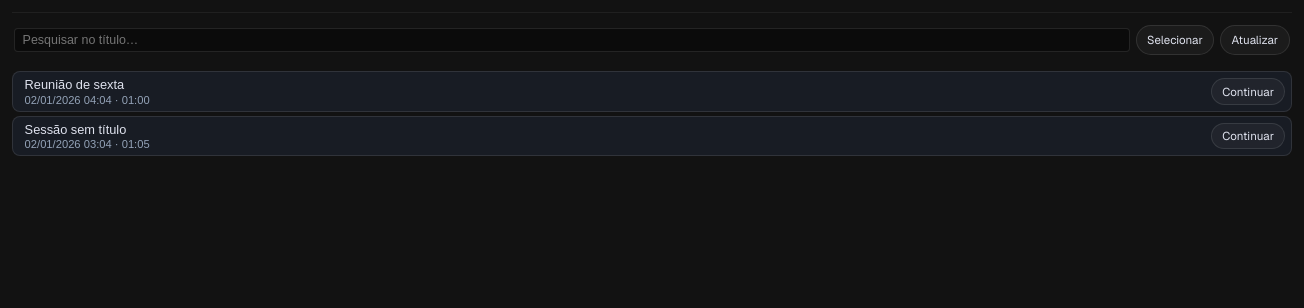
Test: HistoryPanel › abre o detalhe na aba Resumo com o resumo em card
Click the text "Reunião de sexta". click: (74, 84)
box: left=25, top=77, right=124, bottom=92
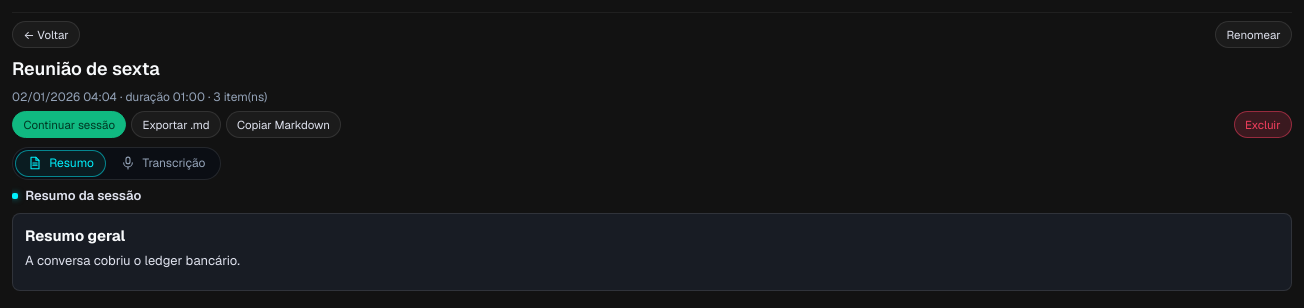
Result: the heading "Resumo da sessão" is shown at left=25, top=186, right=141, bottom=204
Result: the heading "Resumo geral" is shown at left=25, top=226, right=125, bottom=244
